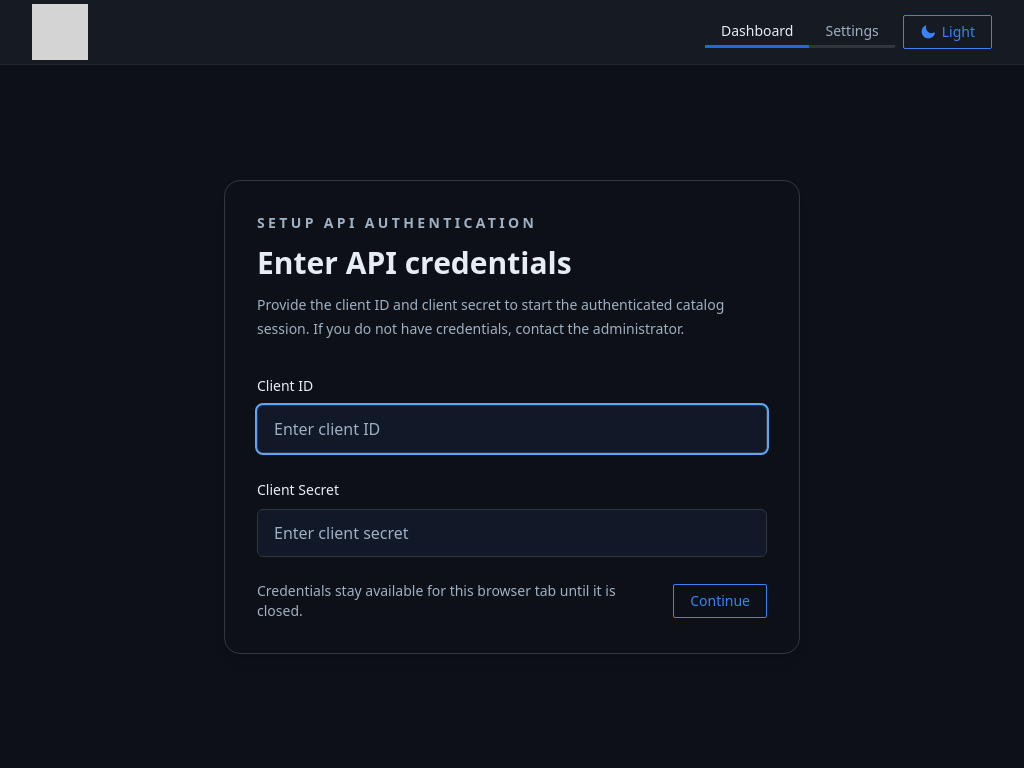
Test: Backend with auth (SERVER_AVAILABLE, server + token URL) › authenticates and renders the catalog after valid credentials are submitted
Expected: the heading "Enter API credentials" is shown, [257,242,572,283]
Type "test-client" into the field labelled "Client ID" at (512, 429), box [257,405,767,453]
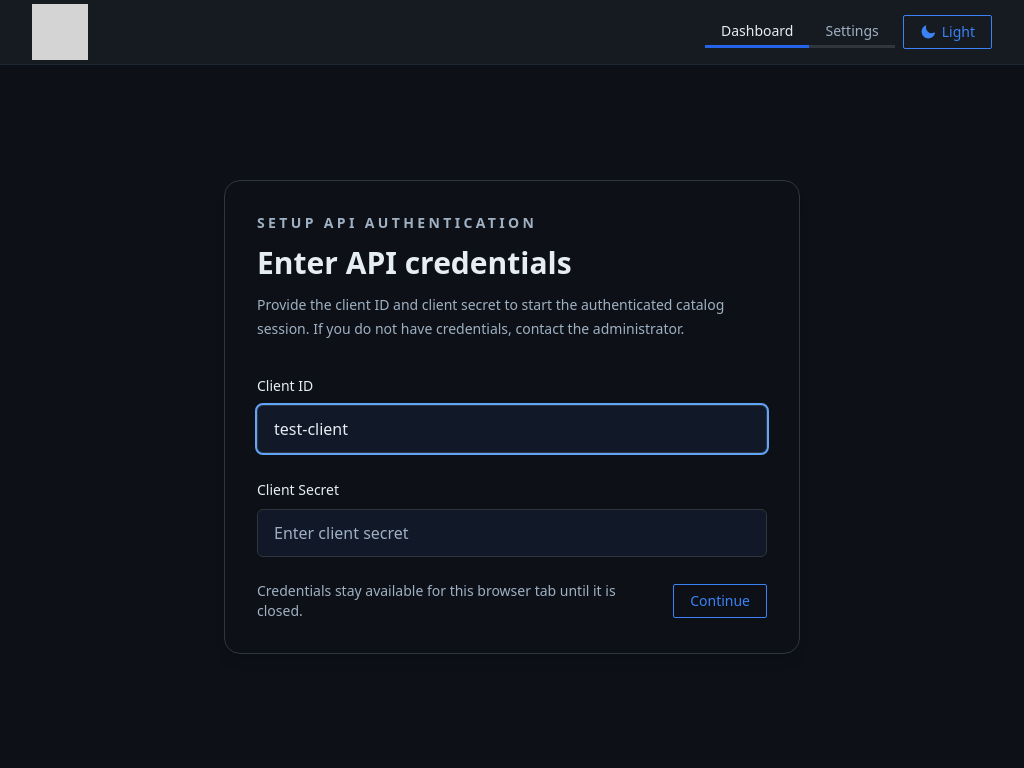
Type "test-secret" into the password field labelled "Client Secret" at (512, 533), box [257,509,767,557]
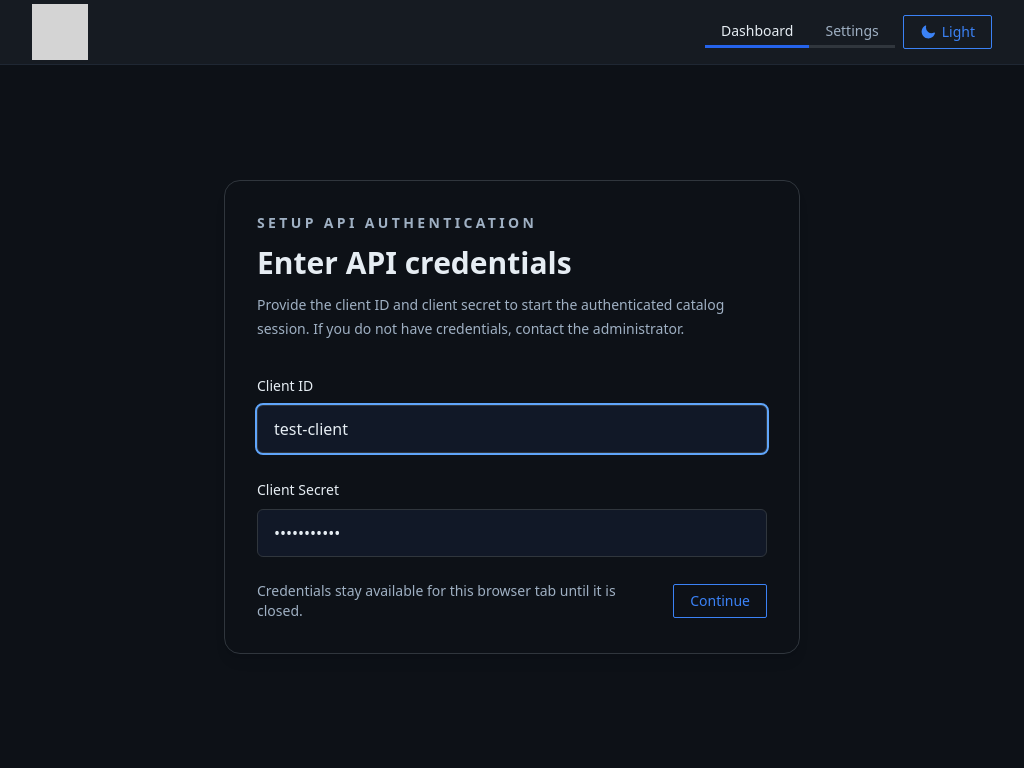
Click the button "Continue" at (720, 601), box [673,584,767,618]
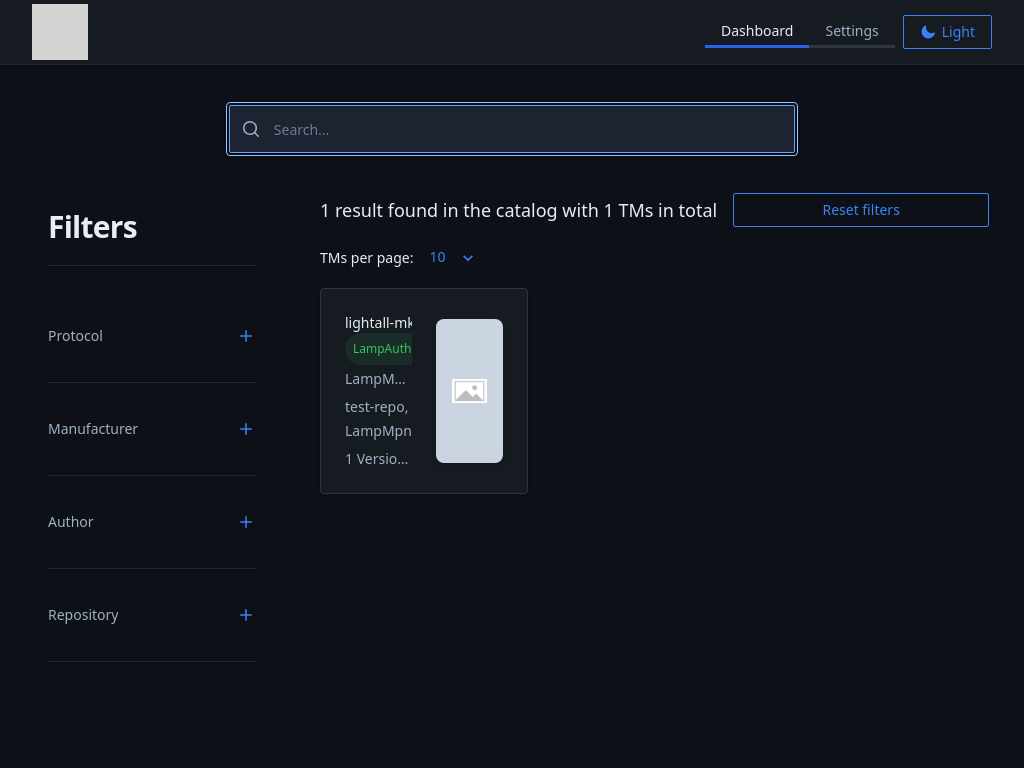
Result: the heading "lightall-mk2" is shown at [345,313,412,333]
Result: the heading "Enter API credentials" is gone
